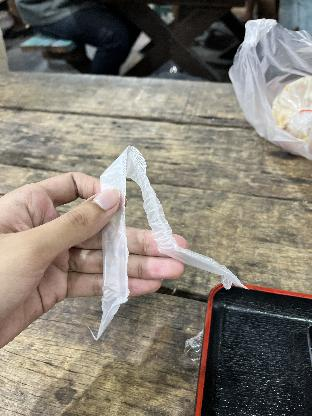Others: (87, 144, 252, 338), (224, 15, 312, 162)
